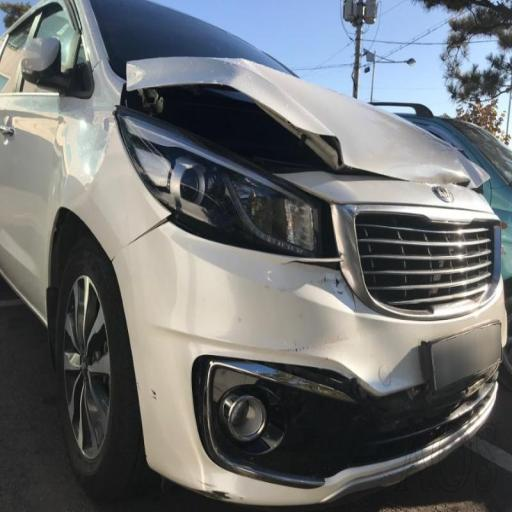dent: (114, 36, 501, 233)
scratch: (258, 248, 369, 376)
